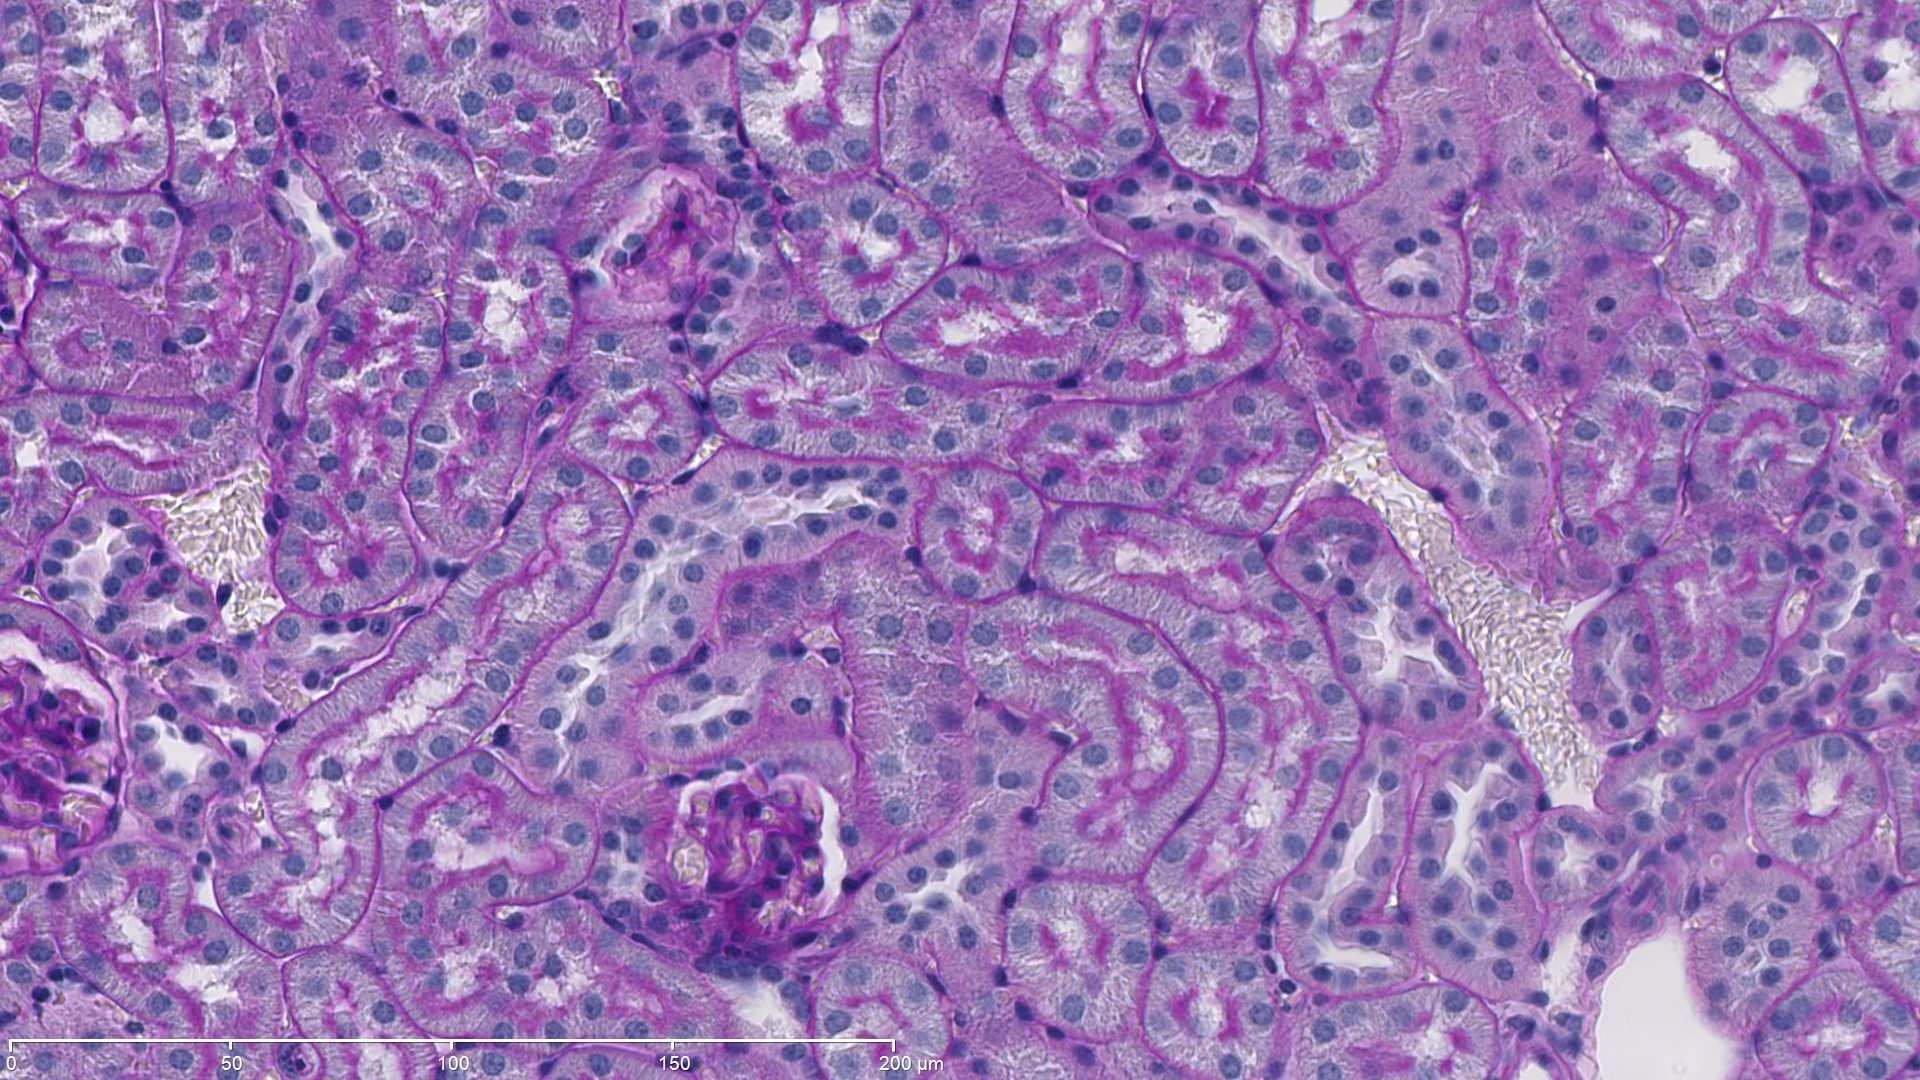Glomeruli: (659, 764, 860, 968)
